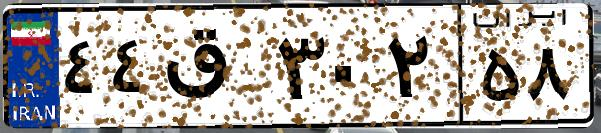0: (330, 28, 385, 110)
2: (385, 28, 445, 110)
3: (270, 28, 330, 110)
4: (57, 26, 110, 100), (110, 28, 158, 98)
5: (475, 38, 525, 113)
8: (525, 38, 570, 115)
ق: (158, 20, 270, 120)
